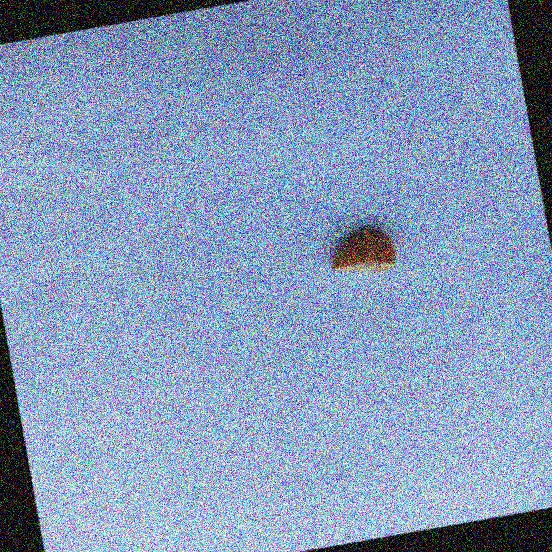grade4: (318, 218, 405, 285)
